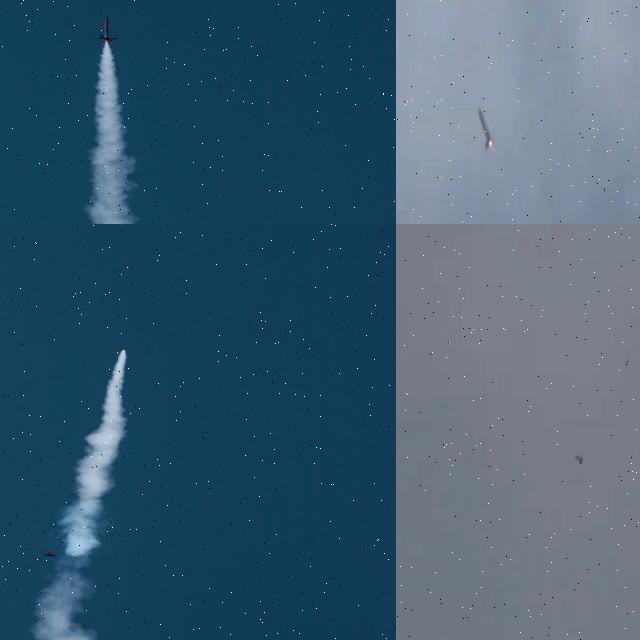Rocket: (97, 16, 118, 46), (478, 107, 493, 149), (575, 455, 583, 464), (120, 346, 126, 350)
